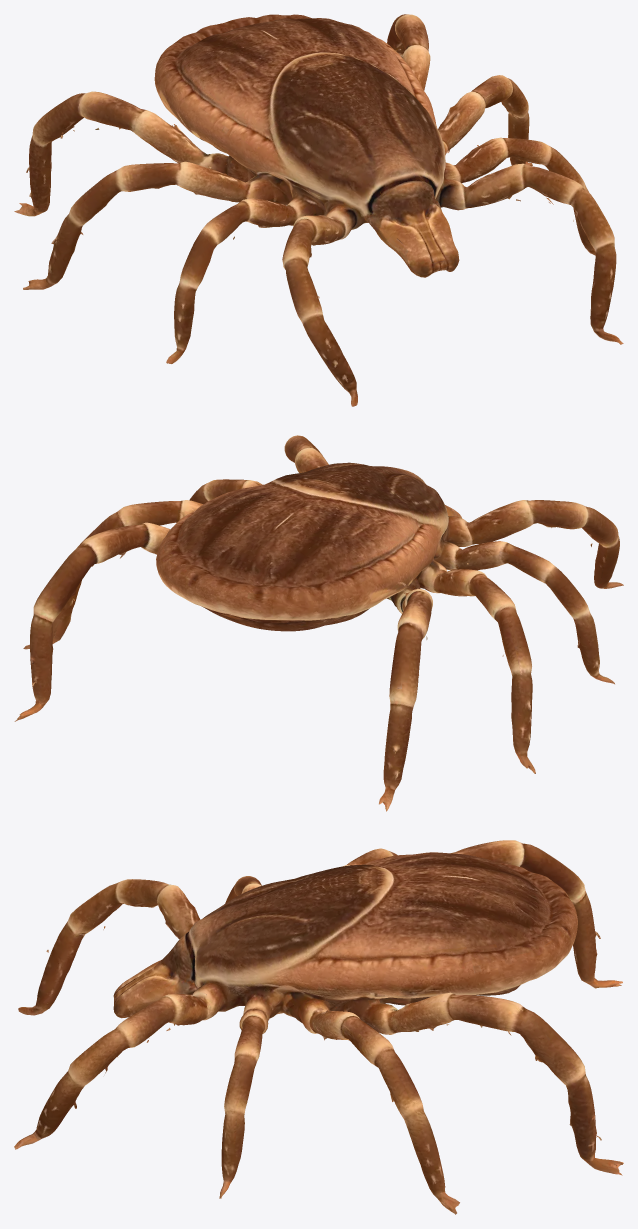
Rendered from tick.glb.
3 renders of one model, top to bottom at view 1: azimuth 30°, elevation 25°; view 2: azimuth 150°, elevation 25°; view 3: azimuth 270°, elevation 25°, orthographic. The views are drawn at different scales.
Parts seen in each view (by area): view 1: Mesh0; view 2: Mesh0; view 3: Mesh0.
Part boxes in pixels (<box>): Mesh0: <box>14,14,623,406</box>; Mesh0: <box>14,435,623,811</box>; Mesh0: <box>14,840,623,1214</box>.
Bounding box in the file's own units: 1.88 × 0.6966 × 1.85.
1 material, 1 textured.
